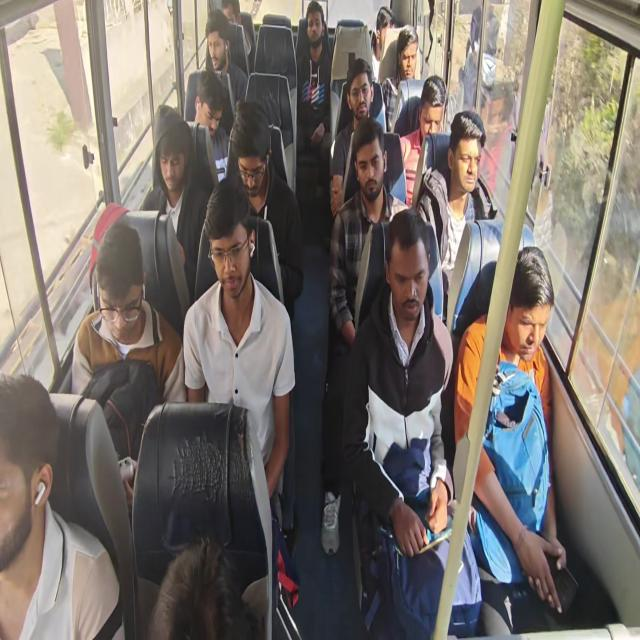person: (342, 207, 482, 638), (453, 245, 567, 613), (320, 117, 411, 555), (182, 177, 296, 510), (70, 220, 186, 515), (0, 372, 125, 638), (224, 100, 304, 319), (414, 110, 490, 322), (141, 111, 210, 303), (146, 534, 262, 639), (329, 58, 376, 217), (400, 74, 448, 207), (296, 0, 332, 156), (204, 9, 248, 136), (188, 70, 230, 182), (381, 24, 419, 132), (221, 0, 255, 77), (370, 5, 397, 81)
